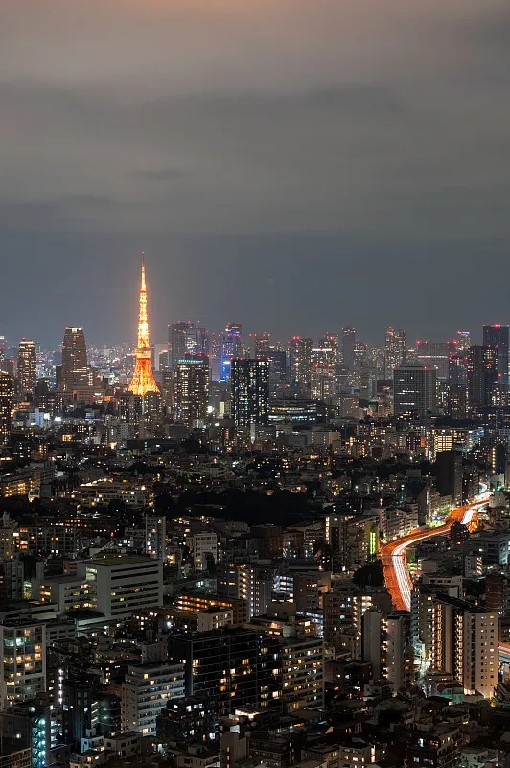Tokyo: (126, 249, 161, 394)
